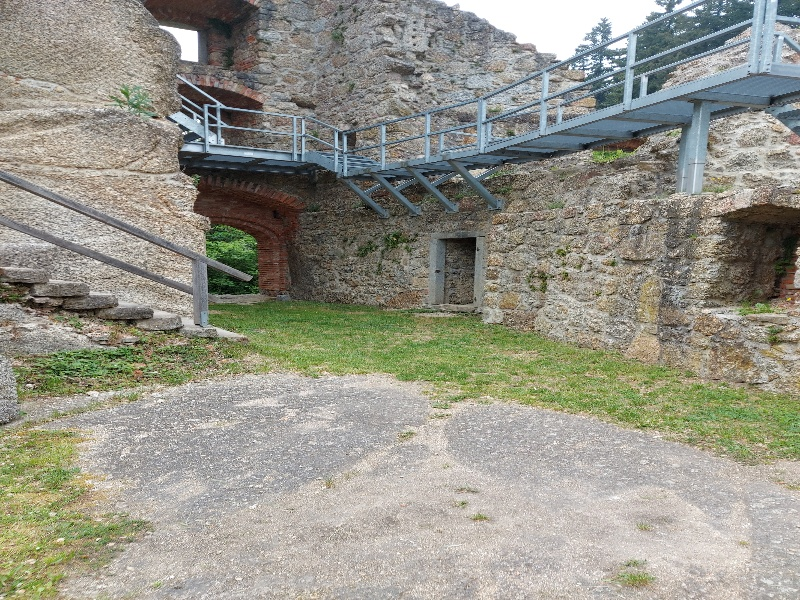door1: (426, 218, 495, 334)
